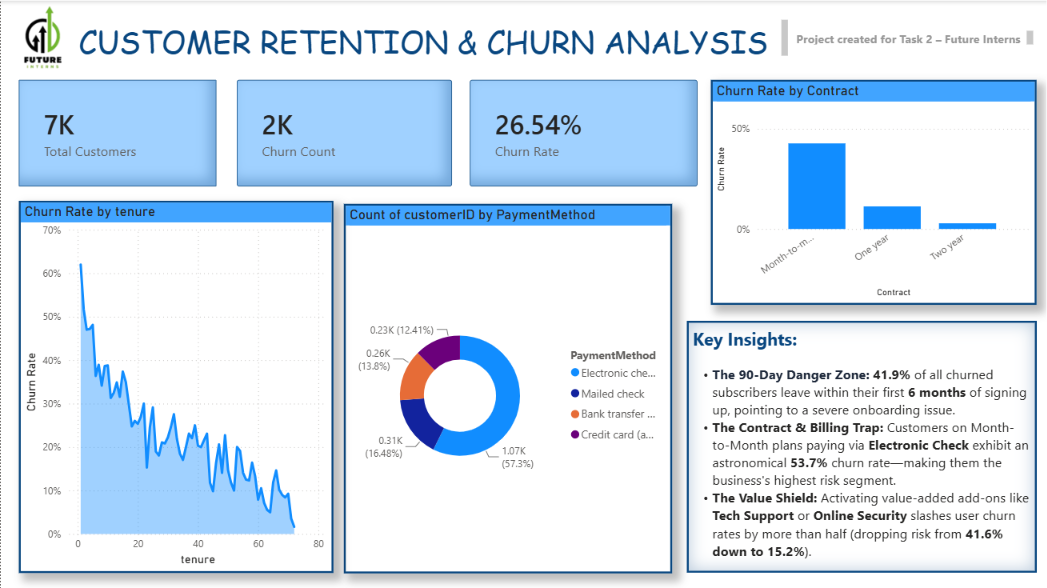

This screenshot's page, from the dashboard's own definition file:
{"tool":"powerbi","page":{"name":"Page 1","canvas":[1280,720],"ordinal":0},"visuals":[{"type":"cardVisual","fields":{"Data":["WA_Fn-UseC_-Telco-Customer-Churn.Total Customers"]},"box":[21.7,96.7,241.7,130],"z":0},{"type":"cardVisual","fields":{"Data":["WA_Fn-UseC_-Telco-Customer-Churn.Churn Rate"]},"box":[573.3,96.7,278.3,130],"z":1000},{"type":"cardVisual","fields":{"Data":["WA_Fn-UseC_-Telco-Customer-Churn.Churn Count"]},"box":[288.3,96.7,263.3,130],"z":2000},{"type":"clusteredColumnChart","fields":{"Category":["WA_Fn-UseC_-Telco-Customer-Churn.Contract"],"Y":["WA_Fn-UseC_-Telco-Customer-Churn.Churn Rate"]},"box":[868.3,96.7,398.3,275],"z":3000},{"type":"donutChart","fields":{"Category":["WA_Fn-UseC_-Telco-Customer-Churn.PaymentMethod"],"Y":["CountNonNull(WA_Fn-UseC_-Telco-Customer-Churn.customerID)"]},"box":[420,248.3,401.7,451.7],"z":4000},{"type":"lineChart","fields":{"Category":["WA_Fn-UseC_-Telco-Customer-Churn.tenure"],"Y":["WA_Fn-UseC_-Telco-Customer-Churn.Churn Rate"]},"box":[21.7,245,385,455],"z":5000},{"type":"textbox","box":[90,18.3,876.7,65],"z":6000},{"type":"image","box":[0,0,100,90],"z":7000},{"type":"textbox","box":[838.3,391.7,428.3,308.3],"z":8000},{"type":"textbox","box":[966.7,31.7,300,26.7],"z":9000}]}

Visuals, with their boxes in screenshot pixels (x1, y1, x2, y2), scaled from the page's 1280x720 canvas onto the 1047x588 screenshot:
cardVisual - WA_Fn-UseC_-Telco-Customer-Churn.Total Customers: Rect(18, 79, 215, 185)
cardVisual - WA_Fn-UseC_-Telco-Customer-Churn.Churn Rate: Rect(469, 79, 697, 185)
cardVisual - WA_Fn-UseC_-Telco-Customer-Churn.Churn Count: Rect(236, 79, 451, 185)
clusteredColumnChart - WA_Fn-UseC_-Telco-Customer-Churn.Contract x WA_Fn-UseC_-Telco-Customer-Churn.Churn Rate: Rect(710, 79, 1036, 304)
donutChart - WA_Fn-UseC_-Telco-Customer-Churn.PaymentMethod x CountNonNull(WA_Fn-UseC_-Telco-Customer-Churn.customerID): Rect(344, 203, 672, 572)
lineChart - WA_Fn-UseC_-Telco-Customer-Churn.tenure x WA_Fn-UseC_-Telco-Customer-Churn.Churn Rate: Rect(18, 200, 333, 572)
textbox: Rect(74, 15, 791, 68)
image: Rect(0, 0, 82, 74)
textbox: Rect(686, 320, 1036, 572)
textbox: Rect(791, 26, 1036, 48)
